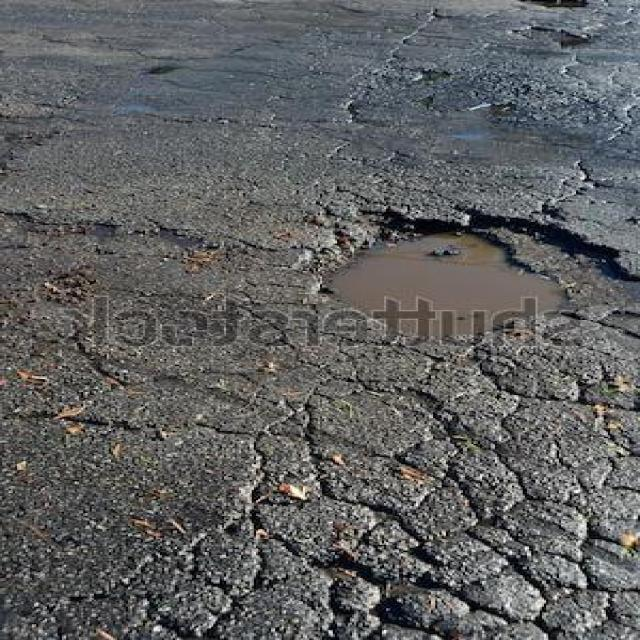pothole: (293, 198, 632, 344), (504, 23, 596, 46), (516, 0, 600, 10)
